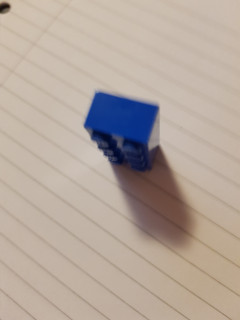2x4 blue: (80, 86, 163, 174)
